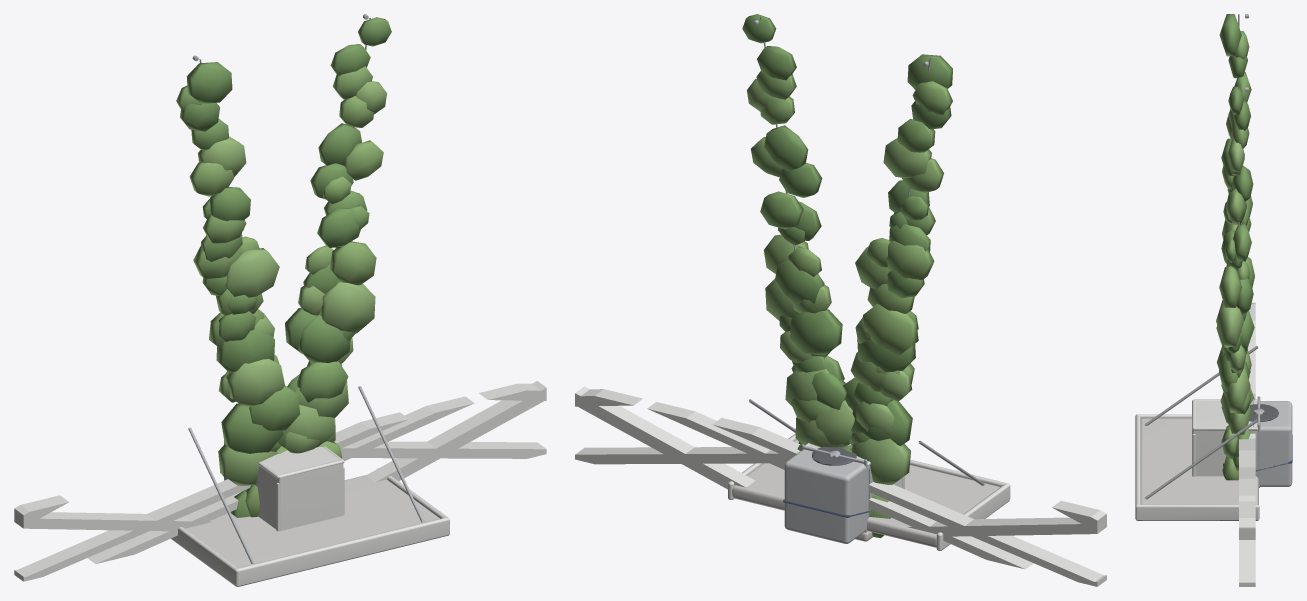
The model's file is kit.glb.
The picture shows the model from 3 angles, left to right: view 1: azimuth 30°, elevation 25°; view 2: azimuth 150°, elevation 25°; view 3: azimuth 270°, elevation 25°; orthographic projection. The views are drawn at different scales.
Visible parts, largest first — view 1: green_wall, x_bars, entrance_canopy, fin, balcony; view 2: green_wall, x_bars, entrance_canopy, roof_unit; view 3: green_wall, entrance_canopy, roof_unit, x_bars, fin, balcony.
Boxes of the visible parts, x1,y1,x2,y2 form: green_wall: [176, 14, 391, 517]; x_bars: [14, 381, 546, 581]; entrance_canopy: [171, 386, 449, 586]; fin: [257, 447, 343, 530]; balcony: [258, 446, 344, 531]; green_wall: [742, 14, 952, 538]; x_bars: [575, 386, 1106, 586]; entrance_canopy: [728, 399, 1010, 550]; roof_unit: [784, 446, 872, 543]; green_wall: [1216, 14, 1254, 480]; entrance_canopy: [1135, 346, 1259, 520]; roof_unit: [1249, 401, 1292, 486]; x_bars: [1239, 302, 1255, 586]; fin: [1192, 400, 1257, 476]; balcony: [1192, 399, 1257, 476].
Bounding box in the file's own units: 8 × 7.2 × 2.35.
